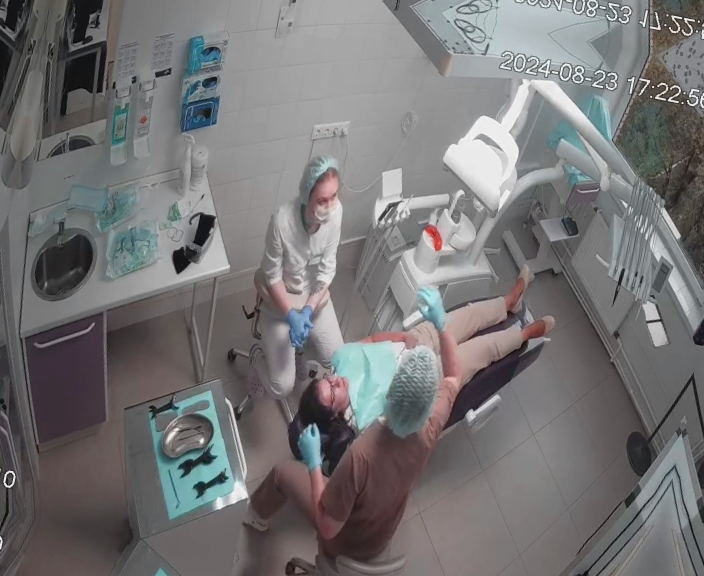Patient: (279, 221, 571, 510)
